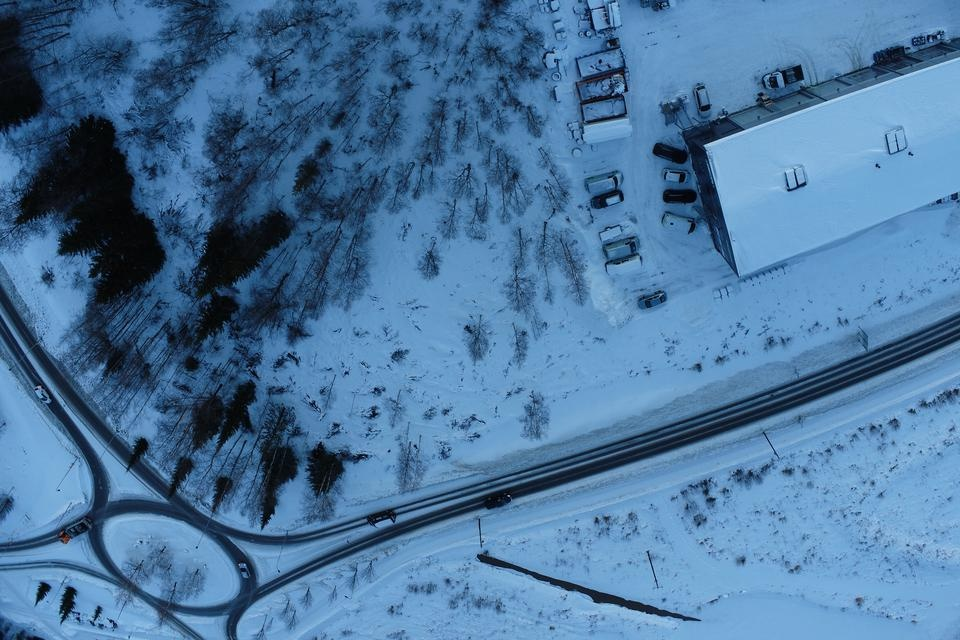roundabout: (64, 480, 291, 640)
